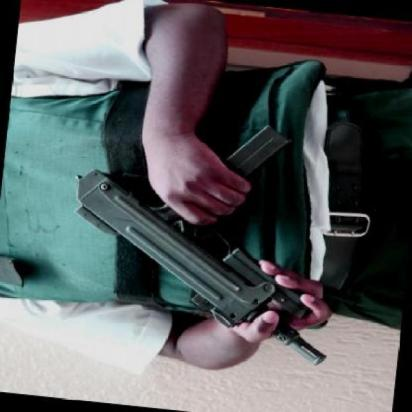Gun: (47, 110, 372, 374)
